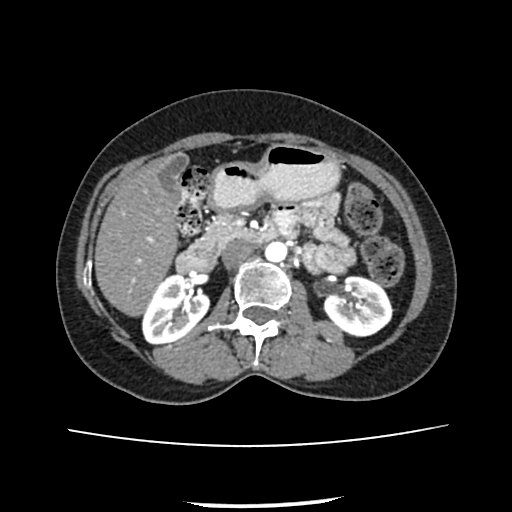aorta: (263, 238, 288, 263)
